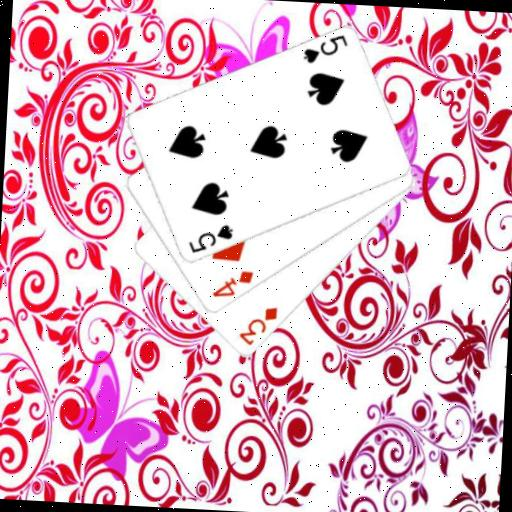3D: (235, 302, 280, 349)
4D: (209, 266, 256, 302)
5S: (185, 220, 235, 257), (300, 30, 350, 67)
